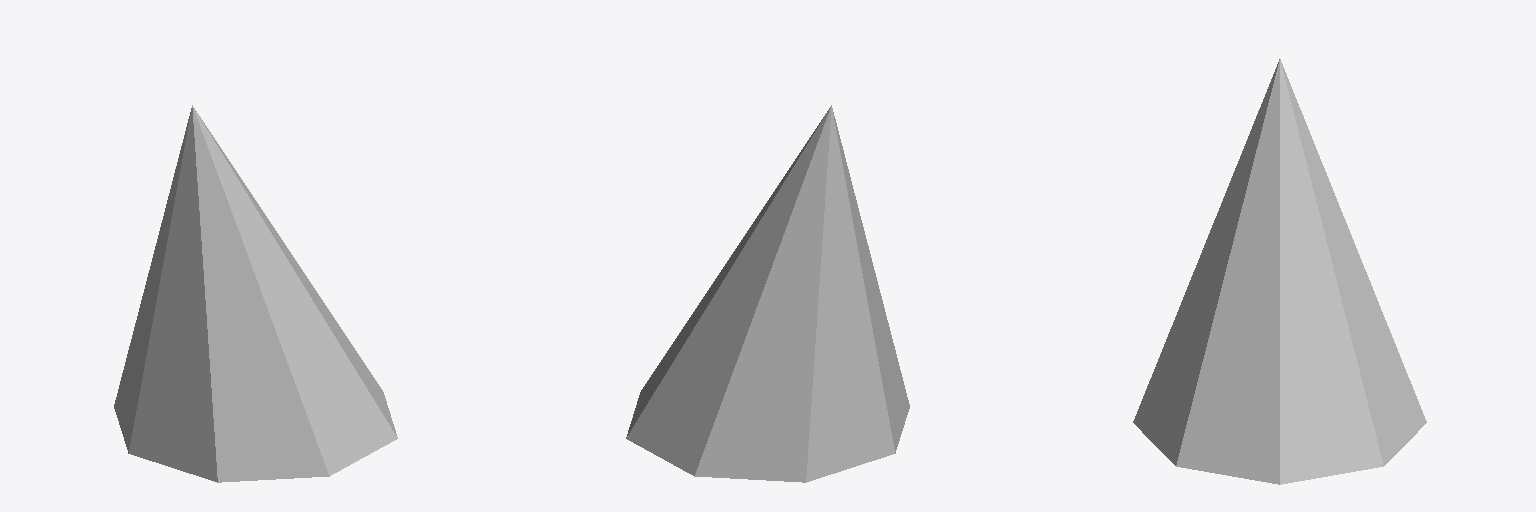
The model's file is 06.ConeSlope.obj.
3 renders of one model, left to right at view 1: azimuth 30°, elevation 25°; view 2: azimuth 150°, elevation 25°; view 3: azimuth 270°, elevation 25°, orthographic.
Parts seen in each view (by area): view 1: default; view 2: default; view 3: default.
Part boxes in pixels (x1,y1,x2,y2): default: (114,105,397,482); default: (626,105,909,482); default: (1133,59,1426,484).
Bounding box in the file's own units: 8 × 10 × 8.